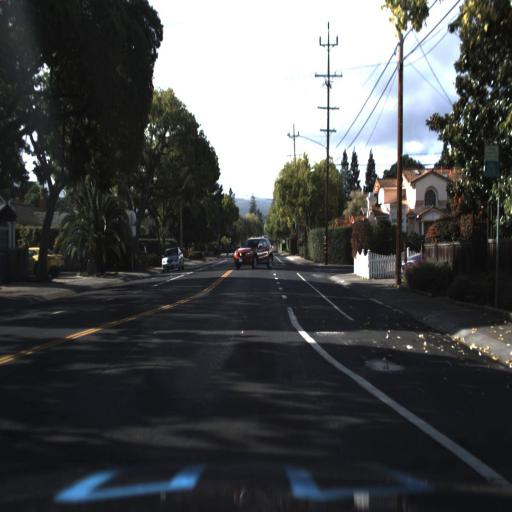car: (16, 228, 68, 284), (232, 233, 274, 265), (156, 237, 188, 277)
